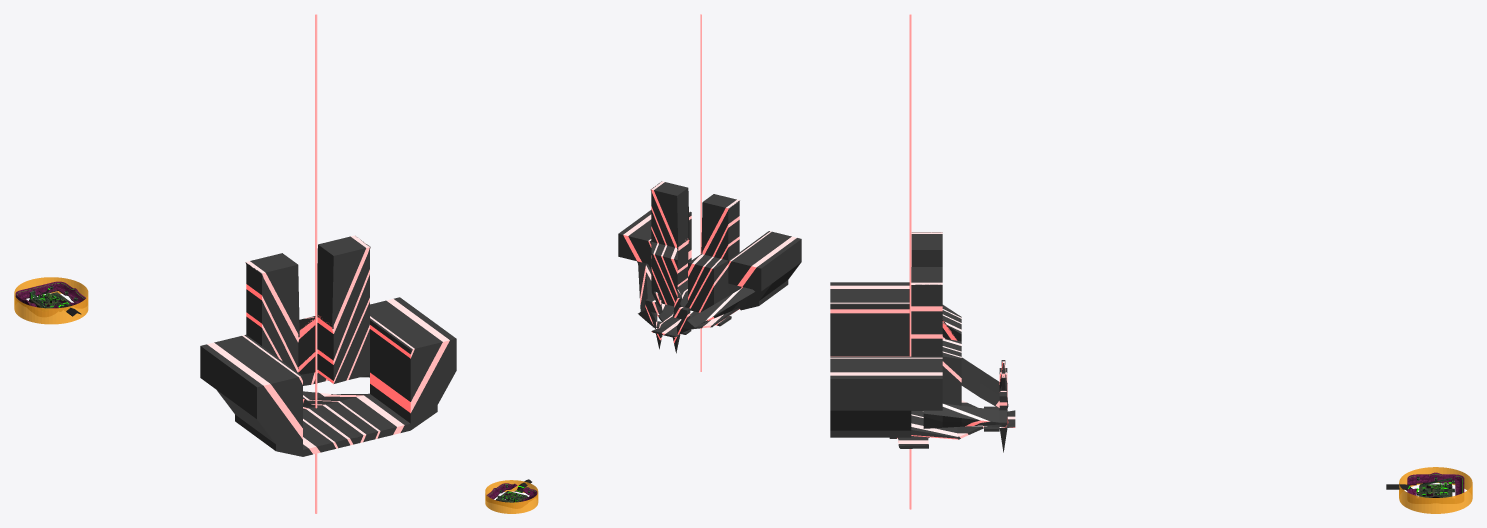
Rendered from world2.glb.
3 renders of one model, left to right at view 1: azimuth 30°, elevation 25°; view 2: azimuth 150°, elevation 25°; view 3: azimuth 270°, elevation 25°, orthographic. The views are drawn at different scales.
Visible parts, largest first — view 1: Visual_TronCastle, Visual_Translucent_Cylinder.002, Cylinder; view 2: Visual_TronCastle, Visual_Translucent_Cylinder.002, Cylinder; view 3: Visual_TronCastle, Visual_Translucent_Cylinder.002, Cylinder.
Boxes of the visible parts, x1,y1,x2,y2 form: Visual_TronCastle: (200, 235, 456, 456); Visual_Translucent_Cylinder.002: (14, 277, 88, 324); Cylinder: (315, 14, 317, 513); Visual_TronCastle: (618, 181, 801, 353); Visual_Translucent_Cylinder.002: (485, 480, 538, 513); Cylinder: (700, 14, 701, 371); Visual_TronCastle: (830, 232, 1015, 452); Visual_Translucent_Cylinder.002: (1399, 467, 1472, 513); Cylinder: (909, 14, 911, 509).
Size of the model in its own units: 361 by 863 by 1015.
Materials: 7 (2 with a texture image).
